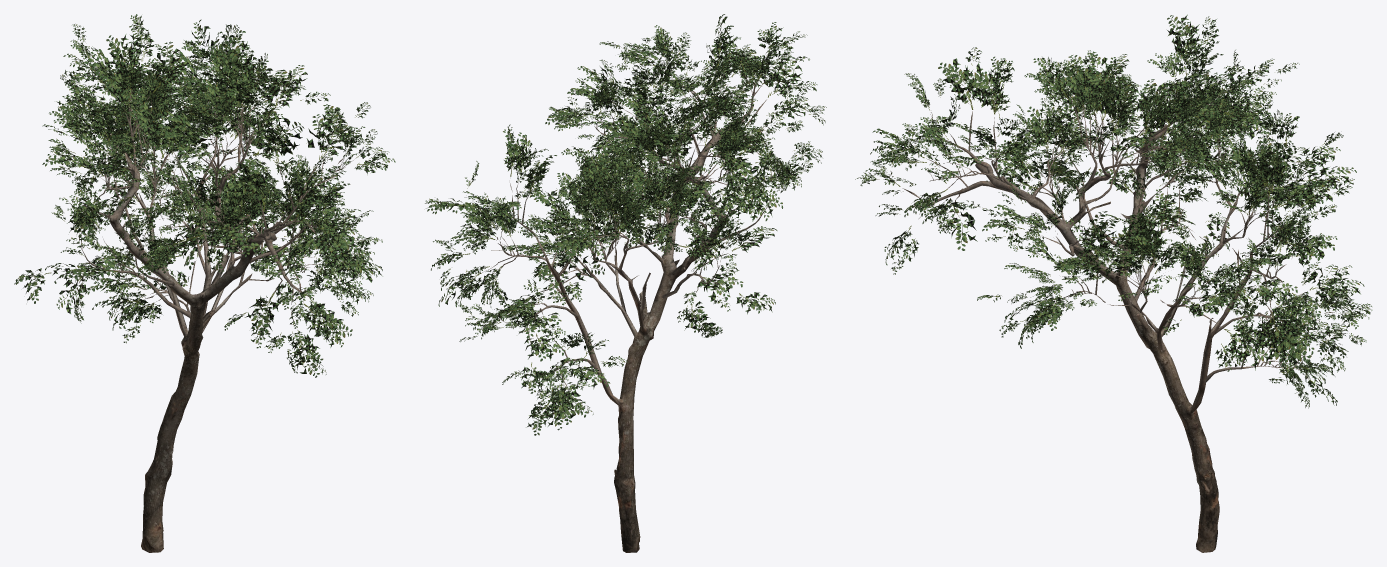
The model's file is vancouver-street-tree-medium.glb.
The picture shows the model from 3 angles, left to right: view 1: azimuth 30°, elevation 25°; view 2: azimuth 150°, elevation 25°; view 3: azimuth 270°, elevation 25°; orthographic projection. The views are drawn at different scales.
Parts seen in each view (by area): view 1: tree_small_02_LOD0; view 2: tree_small_02_LOD0; view 3: tree_small_02_LOD0.
Part boxes in pixels (bbox=[...]): tree_small_02_LOD0: bbox=[14, 14, 395, 552]; tree_small_02_LOD0: bbox=[425, 14, 826, 552]; tree_small_02_LOD0: bbox=[855, 14, 1372, 552].
Bounding box in the file's own units: 2.91 × 4.56 × 4.29.
3 materials, 3 textured.
